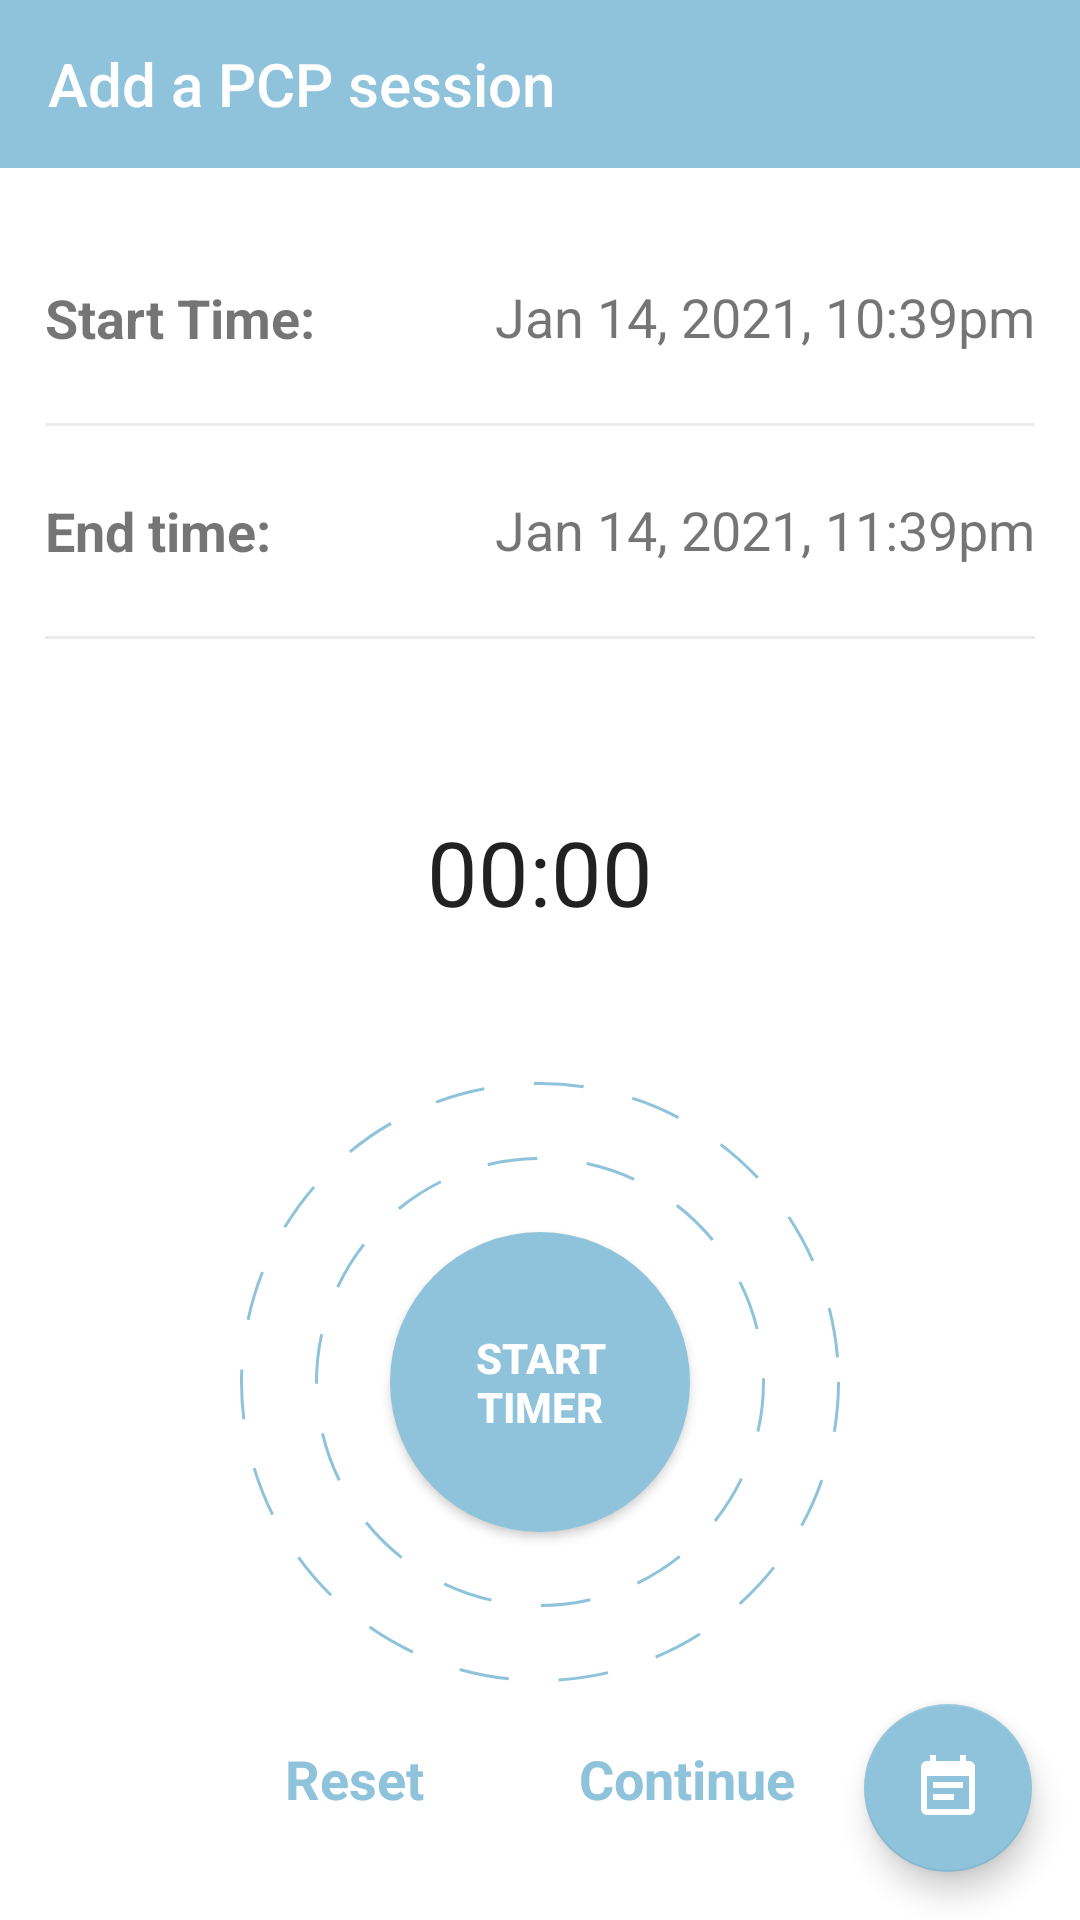

Named icons in this screenshot (1080px x 1920px) and their centers, (x,y):
Event List: (948,1788)
